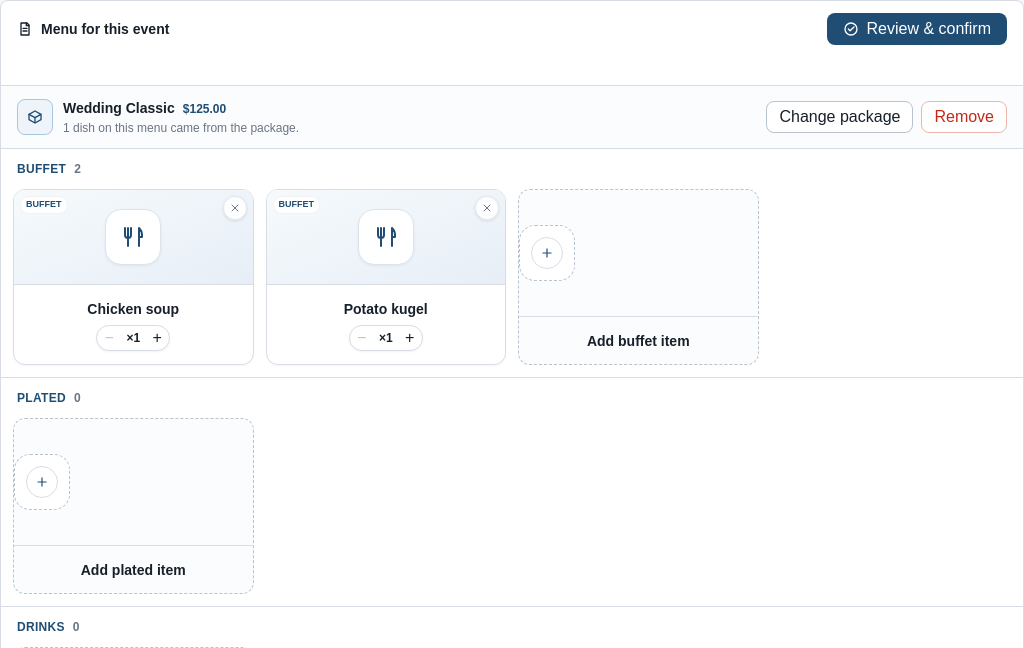
Test: event menu packages › confirms before removing, then takes only the package's dishes off
Expected: the text "1 dish on this menu came from the package." is shown, [63,120,299,136]
Step 1. Click the button "Remove" → x=964, y=117, box [921,101,1007,133]
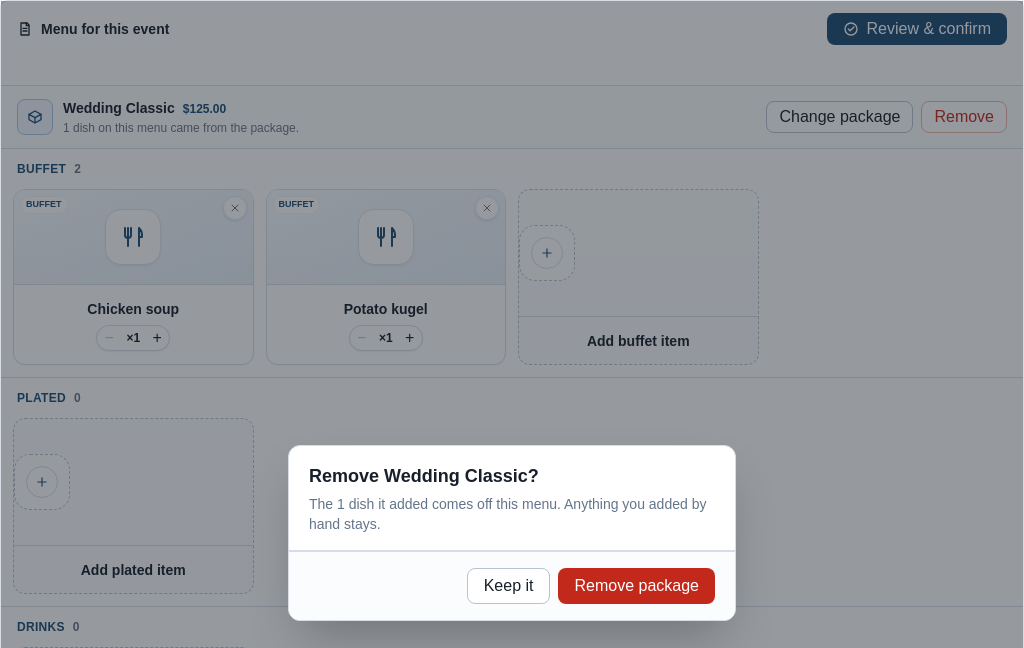
Step 2. Click the button "Remove package" → x=637, y=586, box [558,568,715,604]
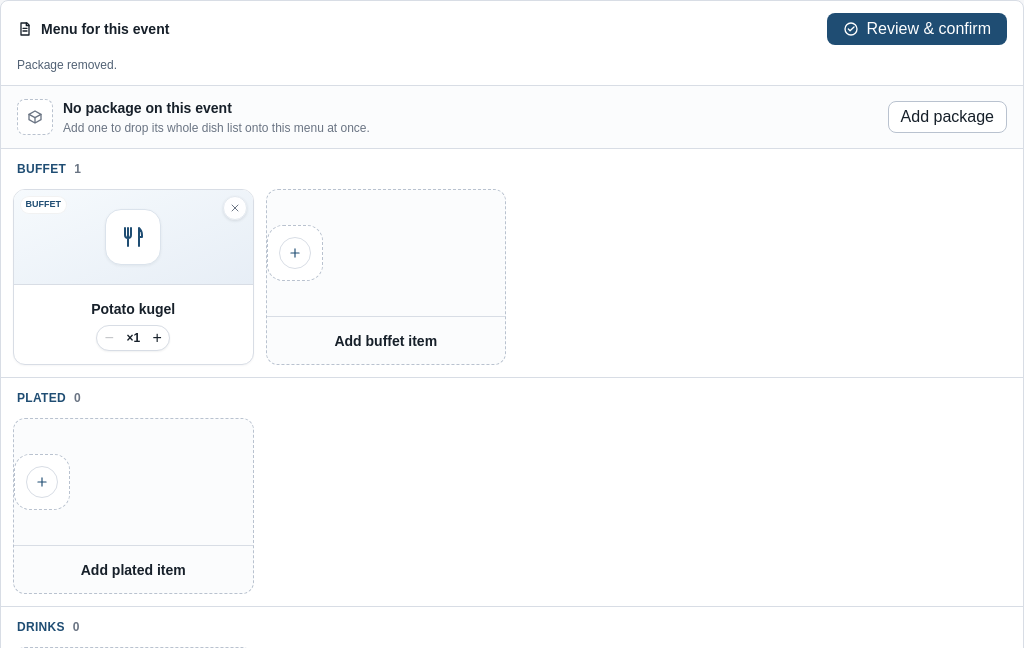
Expected: the button named "Remove Potato kugel" is shown, [222,196,246,220]
Result: the text "No package on this event" is shown at [63,100,232,116]
